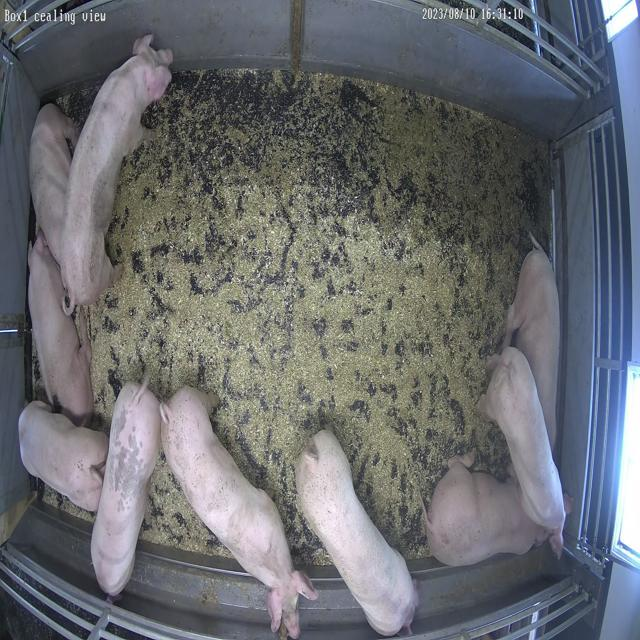Dirt: (124, 70, 545, 260)
Pig: (160, 387, 317, 640), (60, 34, 172, 306), (296, 431, 418, 638), (480, 347, 567, 534), (91, 383, 160, 596), (426, 456, 553, 568), (28, 234, 93, 425), (504, 233, 562, 446), (18, 403, 108, 512), (28, 103, 77, 264)
